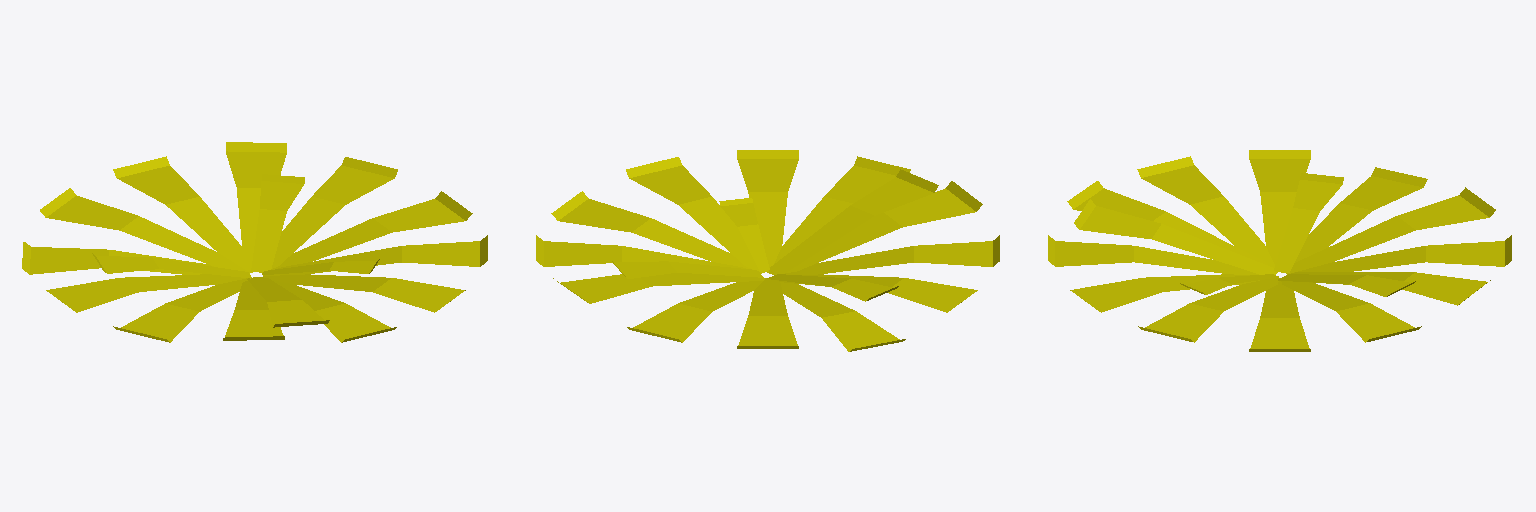
The model's file is plant4.obj.
3 views of the same model, side by side, from view 1: azimuth 30°, elevation 25°; view 2: azimuth 150°, elevation 25°; view 3: azimuth 270°, elevation 25° (orthographic).
Visible parts, largest first — view 1: Plant_4_Plane.005; view 2: Plant_4_Plane.005; view 3: Plant_4_Plane.005.
Part boxes in pixels (x1,y1,x2,y2): Plant_4_Plane.005: (22,142,487,342); Plant_4_Plane.005: (536,150,999,351); Plant_4_Plane.005: (1048,150,1511,351).
Size of the model in its own units: 2.34 by 0.2217 by 2.34.